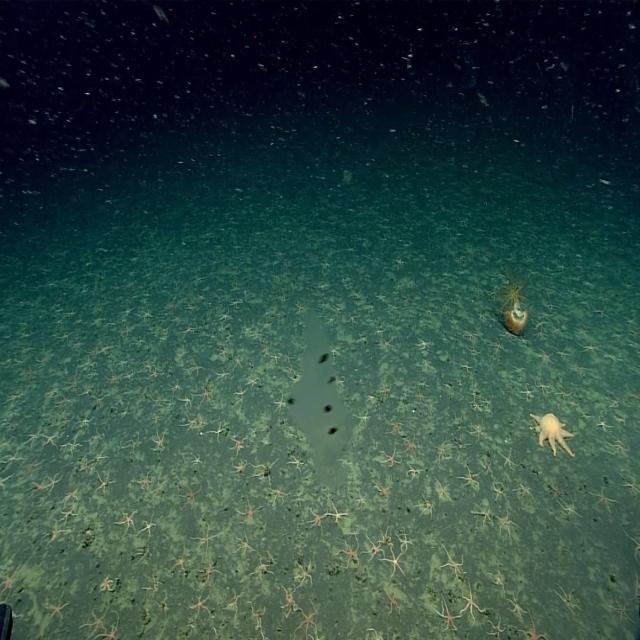brittle-stars: (434, 595, 459, 632), (441, 546, 466, 580), (296, 602, 318, 640), (44, 588, 68, 622), (82, 605, 108, 636), (589, 485, 616, 513), (461, 583, 481, 619), (192, 525, 217, 553), (339, 533, 359, 567), (609, 598, 635, 624), (252, 458, 278, 484), (554, 582, 578, 610), (507, 589, 528, 620), (557, 492, 581, 518), (238, 498, 260, 526), (523, 613, 545, 640), (384, 548, 403, 579), (459, 463, 482, 488), (0, 564, 20, 592), (293, 561, 313, 589), (471, 502, 494, 526), (498, 509, 518, 536), (198, 559, 220, 582), (326, 500, 350, 521), (434, 477, 452, 505), (364, 535, 384, 560), (374, 475, 393, 501), (180, 486, 202, 508), (188, 594, 211, 615), (234, 534, 255, 557), (117, 508, 137, 532), (383, 588, 402, 613), (281, 587, 298, 614), (416, 493, 434, 518), (254, 555, 271, 581), (498, 448, 518, 470), (381, 446, 401, 468), (96, 468, 112, 495), (396, 529, 413, 554), (105, 612, 120, 640), (404, 433, 420, 458), (468, 421, 487, 442), (45, 470, 63, 492), (231, 435, 248, 458), (172, 549, 188, 573), (308, 507, 327, 527), (514, 482, 535, 500), (621, 476, 640, 495), (58, 505, 78, 523), (488, 618, 506, 638), (610, 441, 630, 459), (140, 516, 156, 538), (152, 477, 168, 499), (152, 427, 166, 452), (436, 437, 449, 462), (208, 423, 226, 441), (99, 573, 114, 594), (137, 471, 152, 492), (200, 384, 213, 408), (62, 488, 80, 505), (105, 369, 122, 387), (538, 347, 554, 366), (536, 377, 551, 397), (272, 486, 287, 506), (406, 464, 422, 482), (25, 429, 41, 447), (89, 431, 105, 449), (188, 358, 204, 376), (491, 337, 506, 356), (274, 388, 286, 411), (387, 418, 403, 435), (42, 431, 57, 449), (552, 344, 570, 359), (151, 390, 166, 408), (555, 385, 571, 401), (289, 455, 304, 472), (596, 415, 610, 433), (580, 339, 598, 353), (520, 382, 535, 398), (61, 440, 81, 452), (356, 412, 371, 427), (592, 303, 607, 318), (215, 365, 229, 381), (463, 328, 479, 342), (182, 414, 196, 430), (178, 394, 192, 409), (416, 337, 431, 351), (94, 452, 109, 466), (260, 318, 274, 333), (415, 386, 426, 405), (379, 338, 395, 351), (230, 460, 247, 472), (233, 352, 244, 370), (469, 397, 483, 411), (98, 341, 111, 356), (67, 374, 80, 389), (242, 320, 254, 336), (79, 458, 91, 474), (380, 380, 391, 397), (460, 360, 473, 374), (344, 240, 357, 254), (235, 384, 247, 399), (247, 376, 260, 389), (219, 308, 231, 322), (149, 366, 160, 381), (191, 453, 203, 466), (184, 322, 196, 335), (80, 414, 91, 428), (284, 350, 295, 364), (196, 416, 207, 430), (389, 300, 399, 315), (218, 344, 228, 359), (230, 296, 242, 308), (346, 314, 360, 324), (336, 374, 346, 388), (483, 396, 493, 409), (375, 292, 387, 302)
